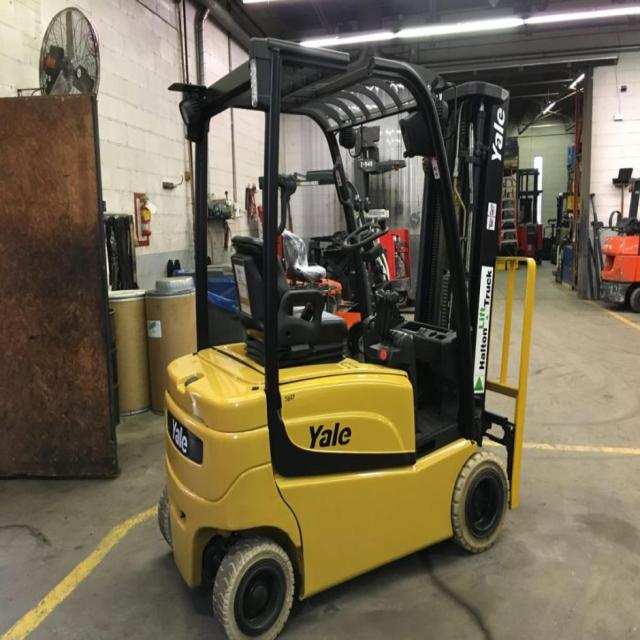forklift: (156, 31, 541, 640), (584, 147, 640, 334)
